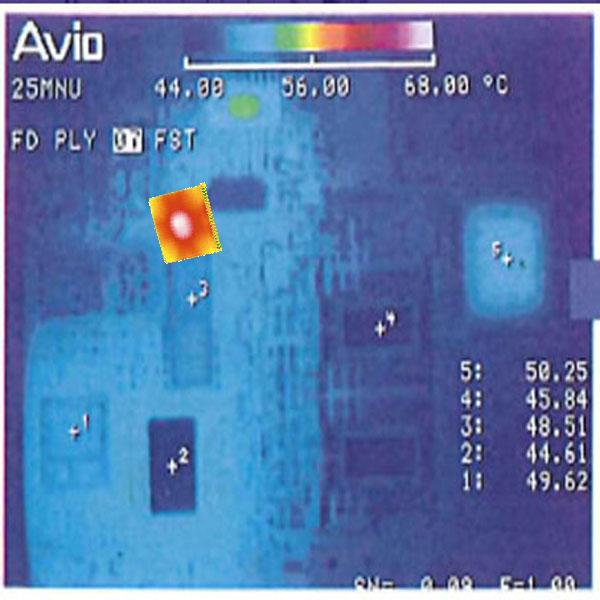componente_T: (146, 179, 224, 266), (282, 24, 348, 53)
